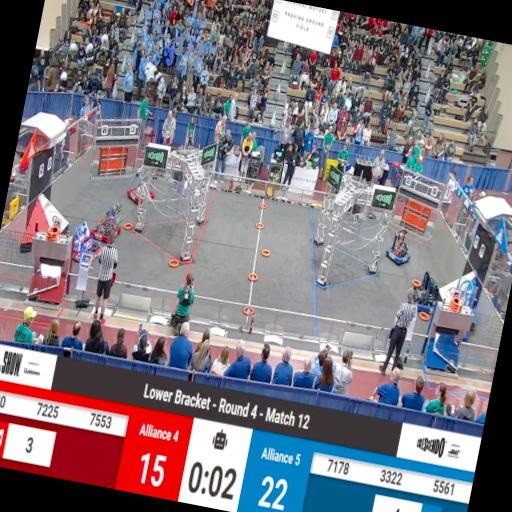robot: (402, 270, 446, 324), (70, 218, 114, 270), (90, 203, 126, 249), (384, 226, 415, 267), (124, 172, 158, 207)
